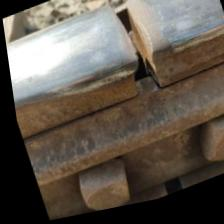person: (52, 0, 217, 142)
